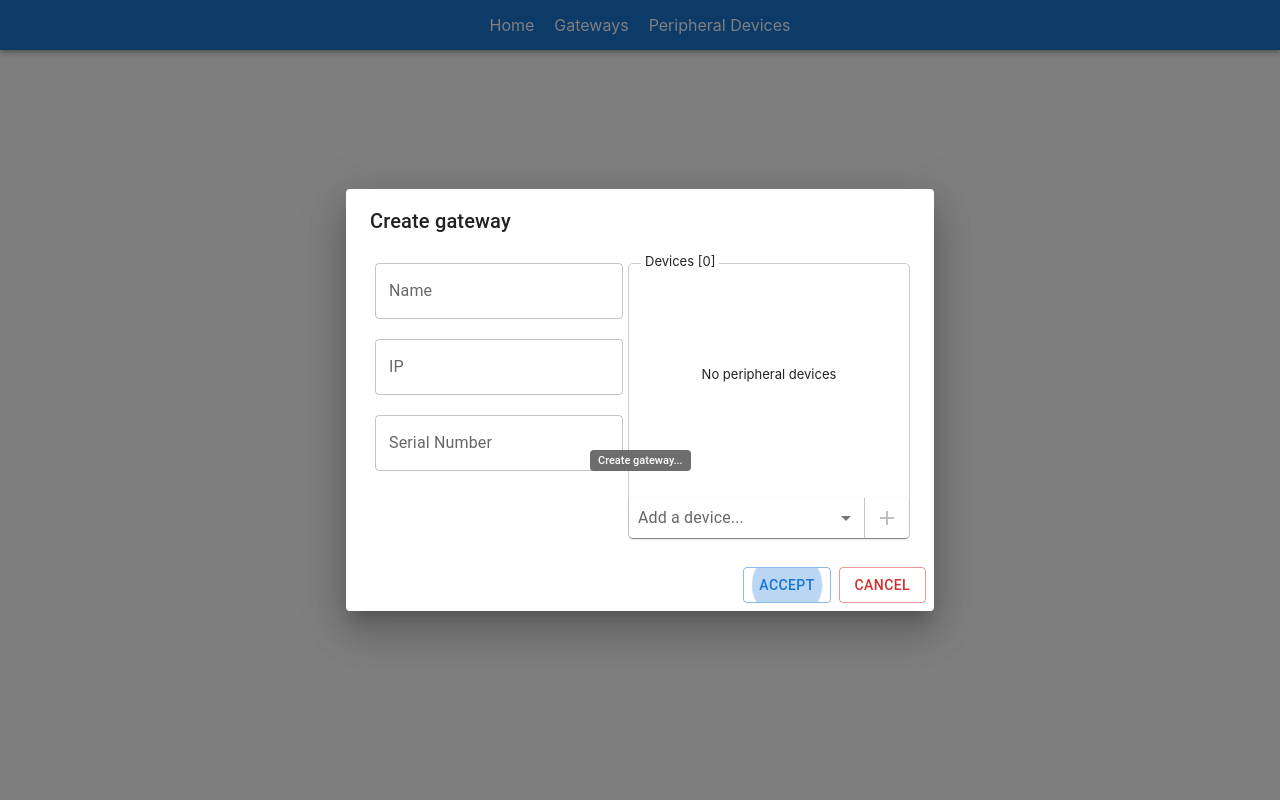
it: gateways tests › gateway CRUD › validates ip
This screenshot has width=1280, height=800.
In the field labelled "IP": (499, 367) top-left (375, 339), bottom-right (623, 395), type "123."
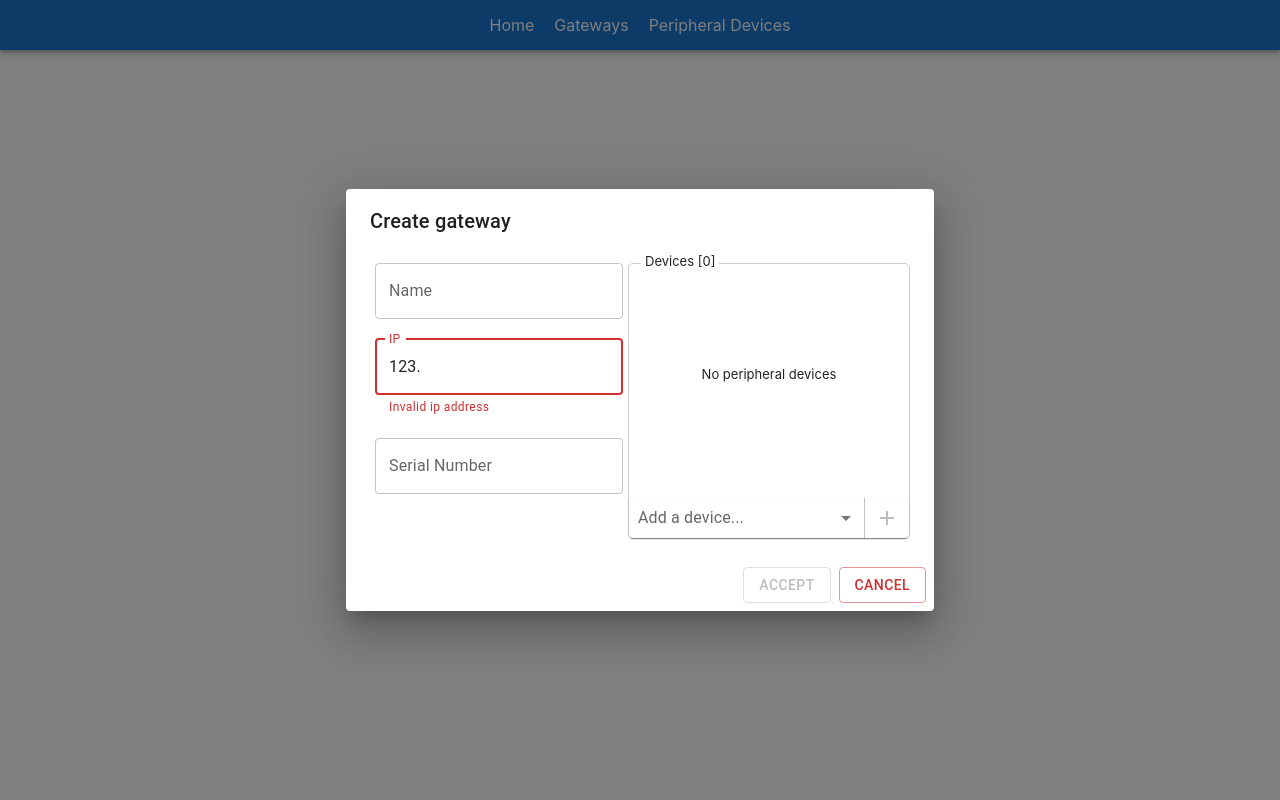
expect the text "Invalid ip address" is shown: met, box top-left (389, 400), bottom-right (489, 414)
expect the button "Accept" is disabled: met, box top-left (743, 567), bottom-right (830, 604)
In the field labelled "IP": (499, 367) top-left (375, 339), bottom-right (623, 395), type "1.1.1"
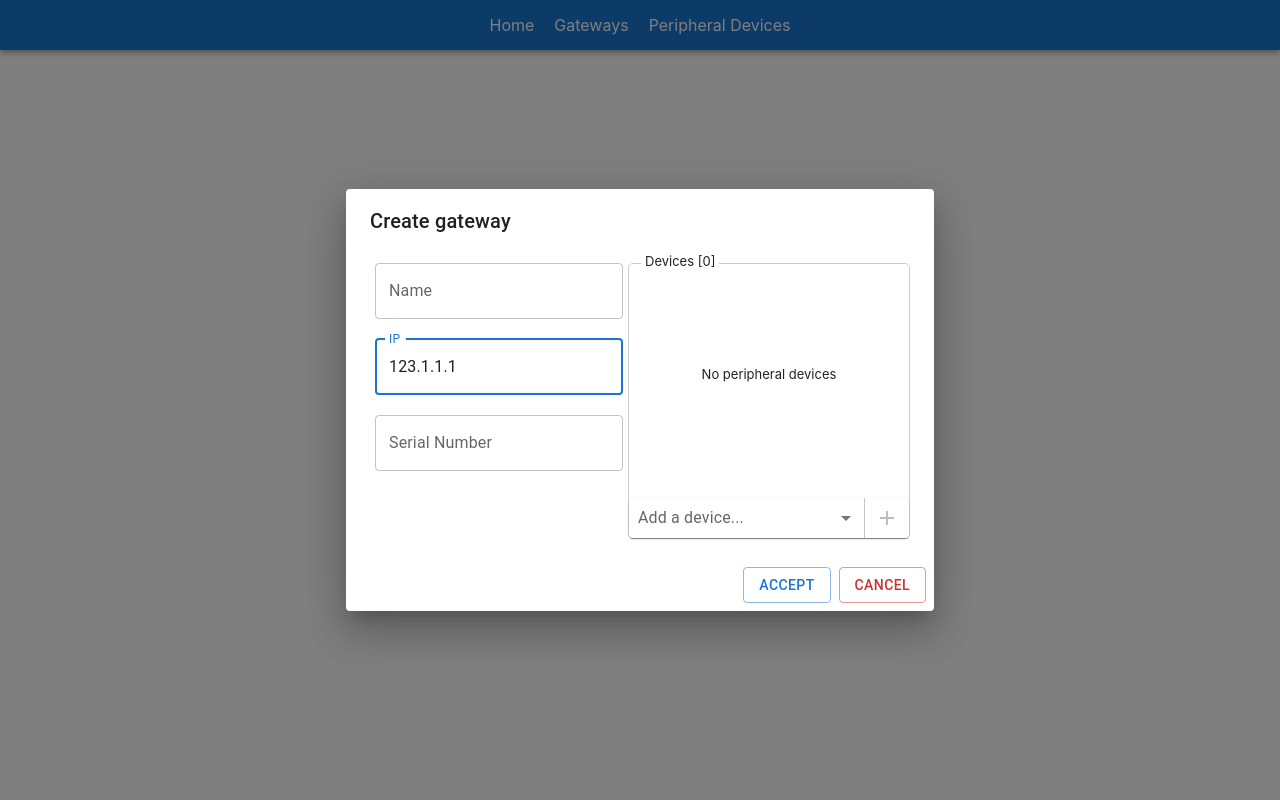
expect the text "Accept" is enabled: met
expect the text "Invalid ip address" is gone: met
